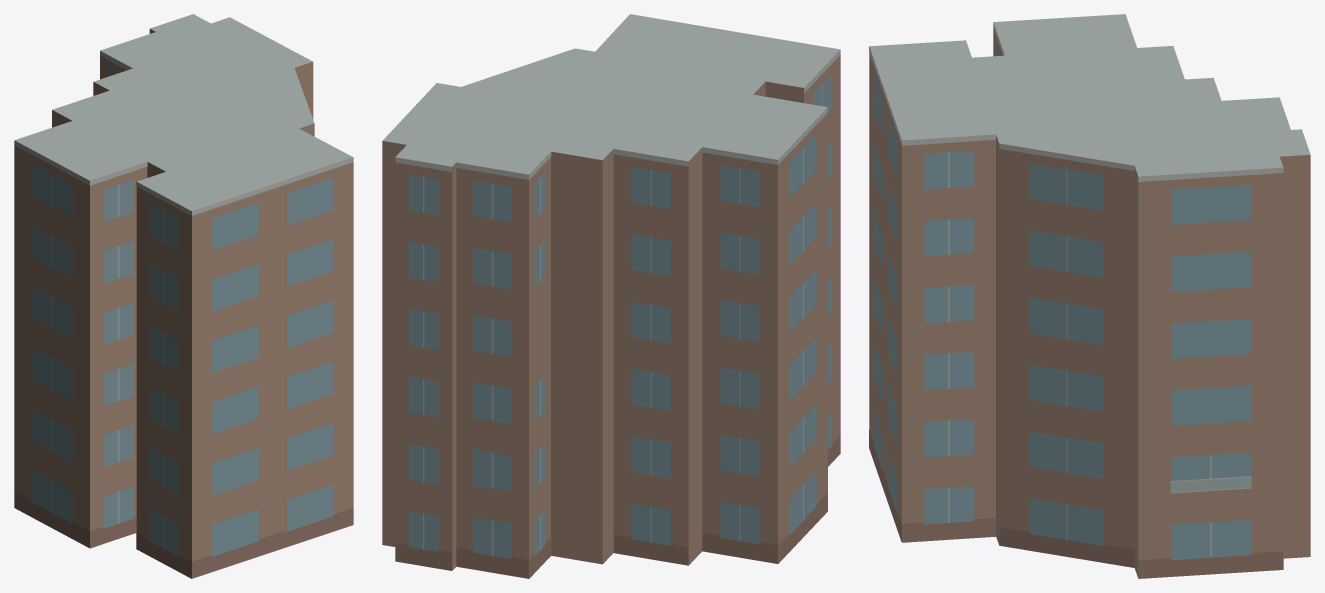
File: survey-upis-32926166.glb
3 views of the same model, side by side, from view 1: azimuth 30°, elevation 25°; view 2: azimuth 150°, elevation 25°; view 3: azimuth 270°, elevation 25° (orthographic). The views are drawn at different scales.
Parts seen in each view (by area): view 1: survey-upis-32926166.tmp; view 2: survey-upis-32926166.tmp; view 3: survey-upis-32926166.tmp.
Part boxes in pixels (x1,y1,x2,y2): survey-upis-32926166.tmp: (14, 14, 353, 578); survey-upis-32926166.tmp: (382, 14, 840, 578); survey-upis-32926166.tmp: (869, 14, 1310, 578).
Bounding box in the file's own units: 16.06 × 18.5 × 18.41.
